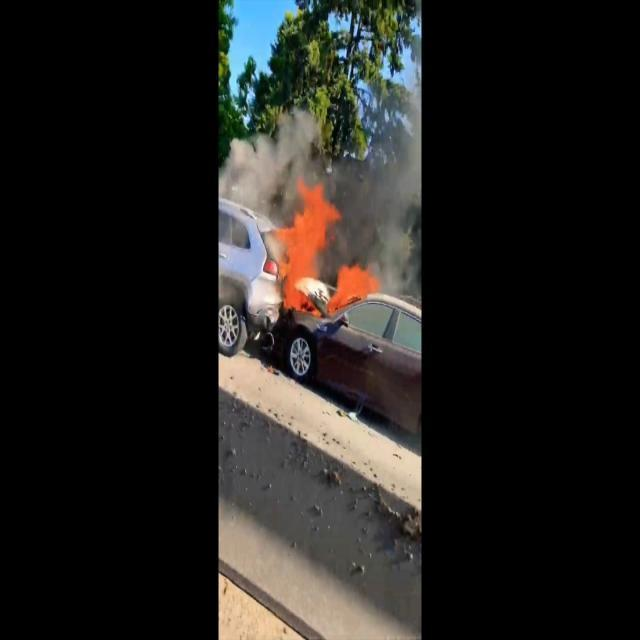fire: (266, 181, 380, 310)
